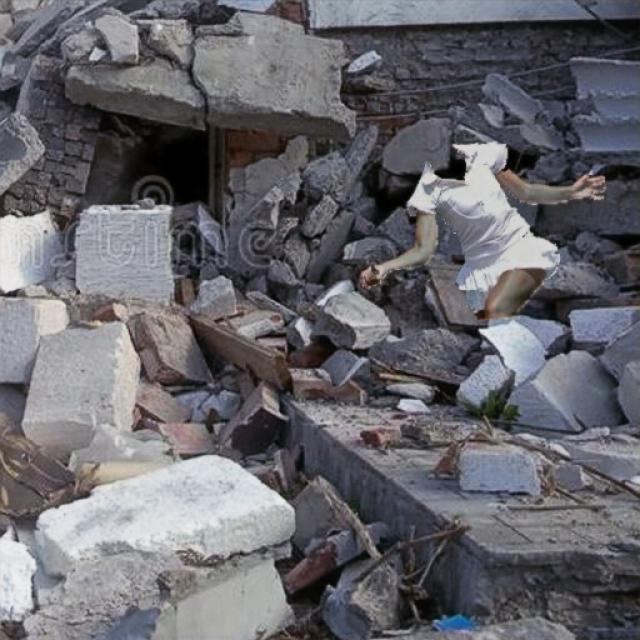Person in Rubble: (362, 141, 606, 319)
